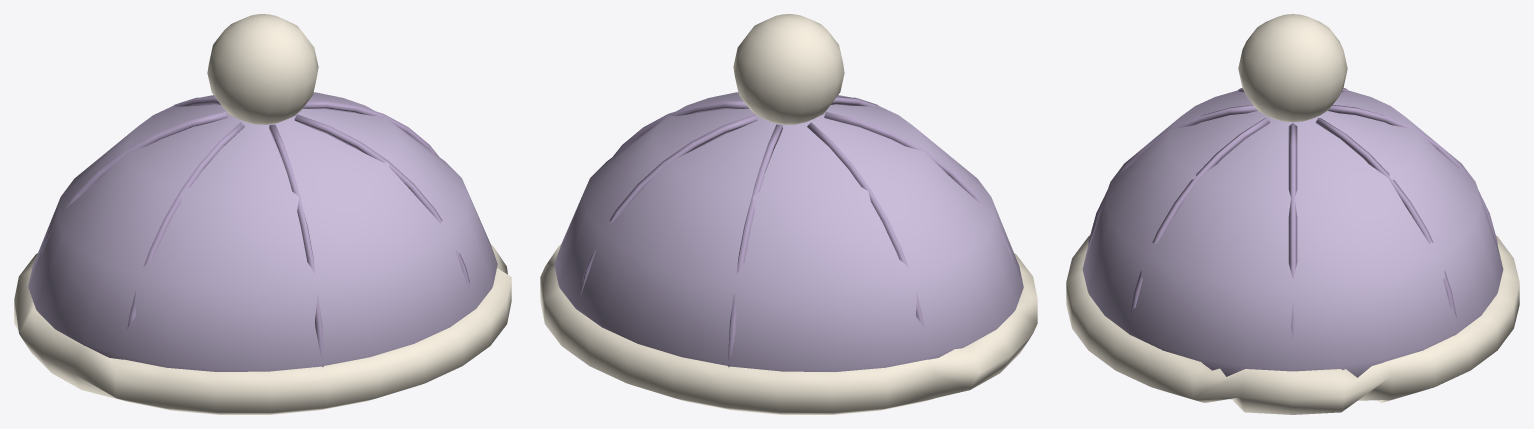
The model's file is beanie.glb.
3 renders of one model, left to right at view 1: azimuth 30°, elevation 25°; view 2: azimuth 150°, elevation 25°; view 3: azimuth 270°, elevation 25°, orthographic. The views are drawn at different scales.
Visible parts, largest first — view 1: Lavender knit dome, Cream knit rolled brim, Fluffy cream pompom, Knit rib 01, Knit rib 02, Knit rib 03, Knit rib 04, Knit rib 00; view 2: Lavender knit dome, Cream knit rolled brim, Fluffy cream pompom, Knit rib 06, Knit rib 05, Knit rib 04, Knit rib 03, Knit rib 00; view 3: Lavender knit dome, Cream knit rolled brim, Fluffy cream pompom, Knit rib 00, Knit rib 01, Knit rib 06, Knit rib 05, Knit rib 02.
Part boxes in pixels (box(x1,y1,x2,y2)): Lavender knit dome: box(28, 92, 497, 371); Cream knit rolled brim: box(14, 244, 511, 414); Fluffy cream pompom: box(207, 14, 318, 124); Knit rib 01: box(294, 114, 471, 296); Knit rib 02: box(269, 124, 323, 367); Knit rib 03: box(127, 122, 244, 328); Knit rib 04: box(38, 111, 227, 262); Knit rib 00: box(303, 101, 438, 156); Lavender knit dome: box(554, 92, 1023, 371); Cream knit rolled brim: box(540, 244, 1037, 414); Fluffy cream pompom: box(733, 14, 844, 124); Knit rib 06: box(580, 114, 757, 296); Knit rib 05: box(728, 124, 782, 367); Knit rib 04: box(807, 122, 924, 328); Knit rib 03: box(824, 111, 1013, 262); Knit rib 00: box(613, 101, 748, 156); Lavender knit dome: box(1082, 90, 1503, 399); Cream knit rolled brim: box(1066, 235, 1519, 414); Fluffy cream pompom: box(1238, 14, 1347, 122); Knit rib 00: box(1288, 123, 1297, 339); Knit rib 01: box(1129, 117, 1270, 318); Knit rib 06: box(1315, 117, 1456, 317); Knit rib 05: box(1328, 105, 1497, 246); Knit rib 02: box(1088, 105, 1257, 246).
Size of the model in its own units: 0.588 by 0.385 by 0.5297.
